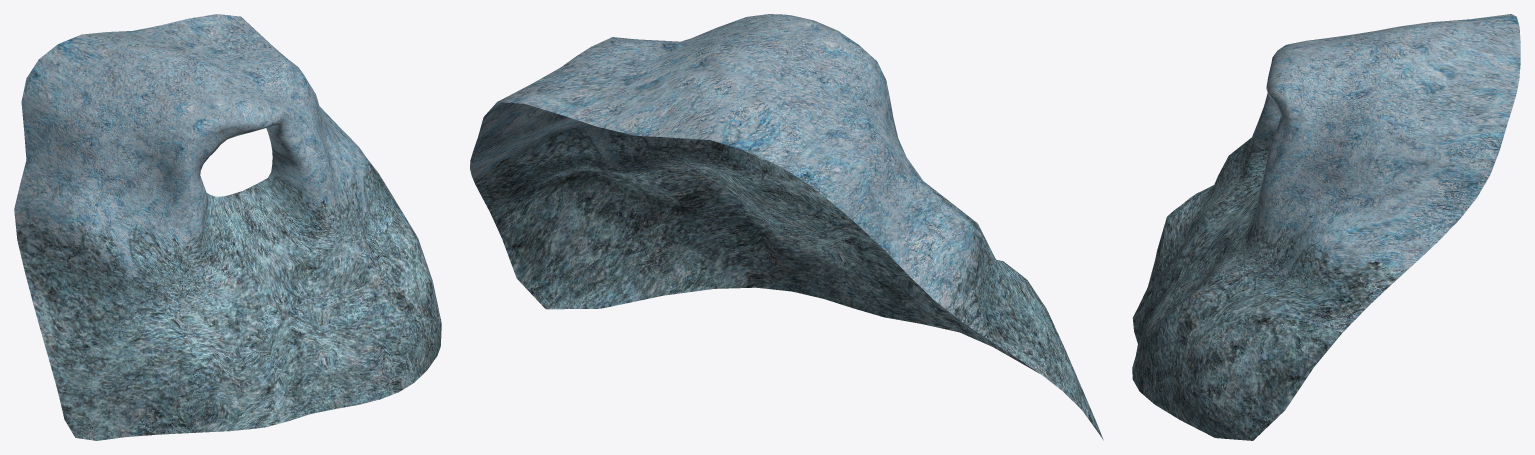
The model's file is thm_all_cave_s02_ice_r0_mesh_l0.fbx.
The picture shows the model from 3 angles, left to right: view 1: azimuth 30°, elevation 25°; view 2: azimuth 150°, elevation 25°; view 3: azimuth 270°, elevation 25°; orthographic projection. The views are drawn at different scales.
Parts seen in each view (by area): view 1: mesh_node; view 2: mesh_node; view 3: mesh_node.
Part boxes in pixels (x1,y1,x2,y2): mesh_node: (14,14,441,440); mesh_node: (470,14,1103,440); mesh_node: (1132,14,1520,440).
Bounding box in the file's own units: 48.97 × 34.28 × 39.36.
